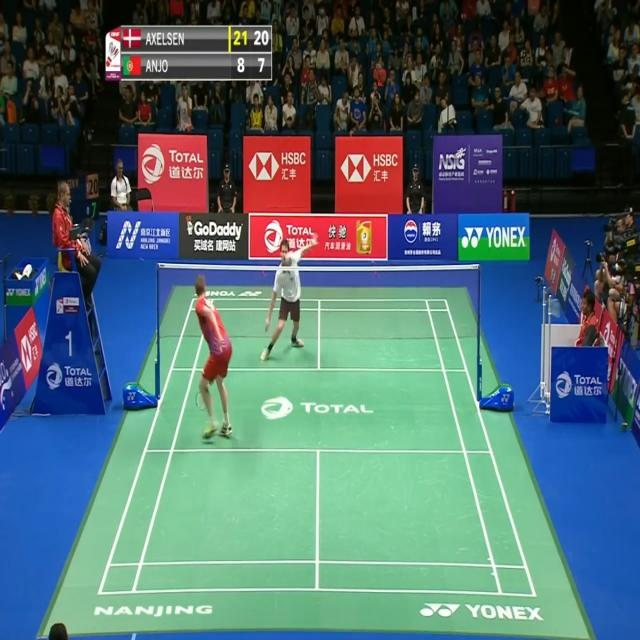Player1: (189, 272, 238, 445)
Player2: (256, 226, 319, 364)
